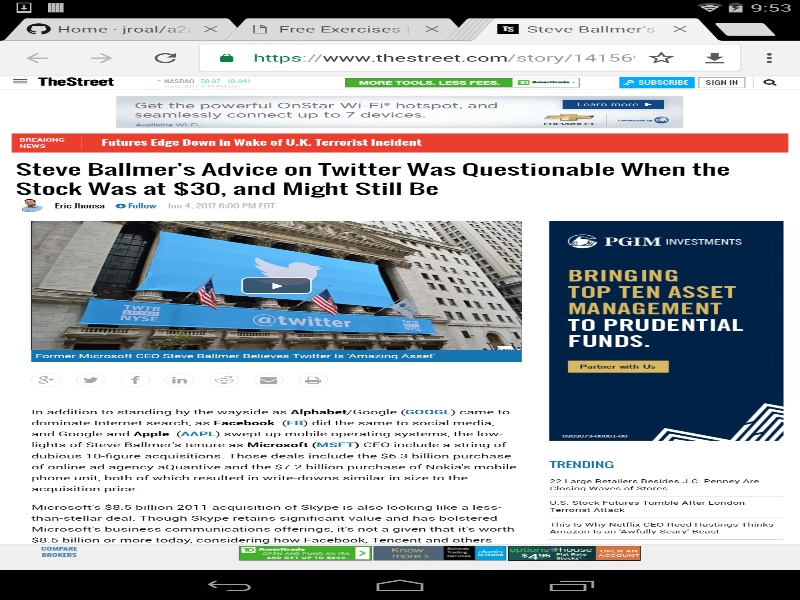Button: (5, 40, 69, 75), (69, 40, 133, 75), (133, 40, 197, 75), (742, 40, 800, 75), (634, 45, 688, 70), (200, 45, 253, 70), (688, 45, 741, 70), (240, 277, 311, 294), (74, 372, 105, 387), (119, 372, 150, 387), (252, 372, 283, 387), (297, 372, 328, 387), (30, 372, 60, 387), (164, 372, 194, 387), (208, 372, 238, 387), (7, 76, 32, 87)
Input: (253, 46, 634, 68), (414, 95, 640, 107), (159, 95, 384, 107)
